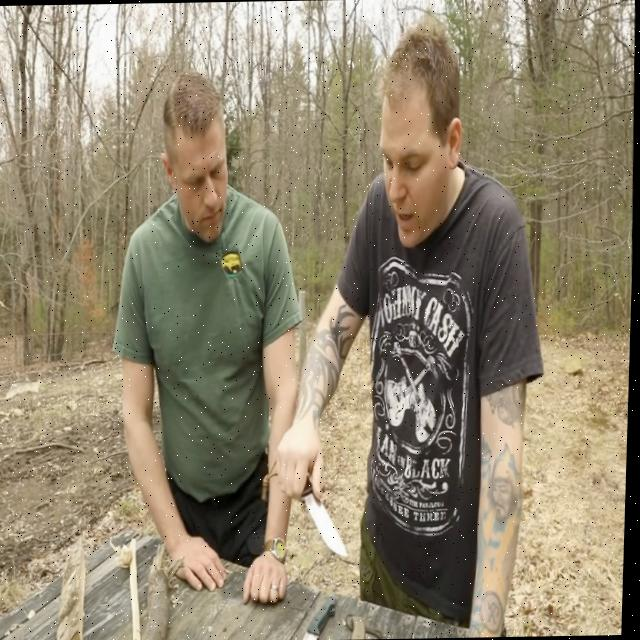knife: (304, 494, 357, 558), (292, 586, 346, 640), (343, 600, 375, 640)
